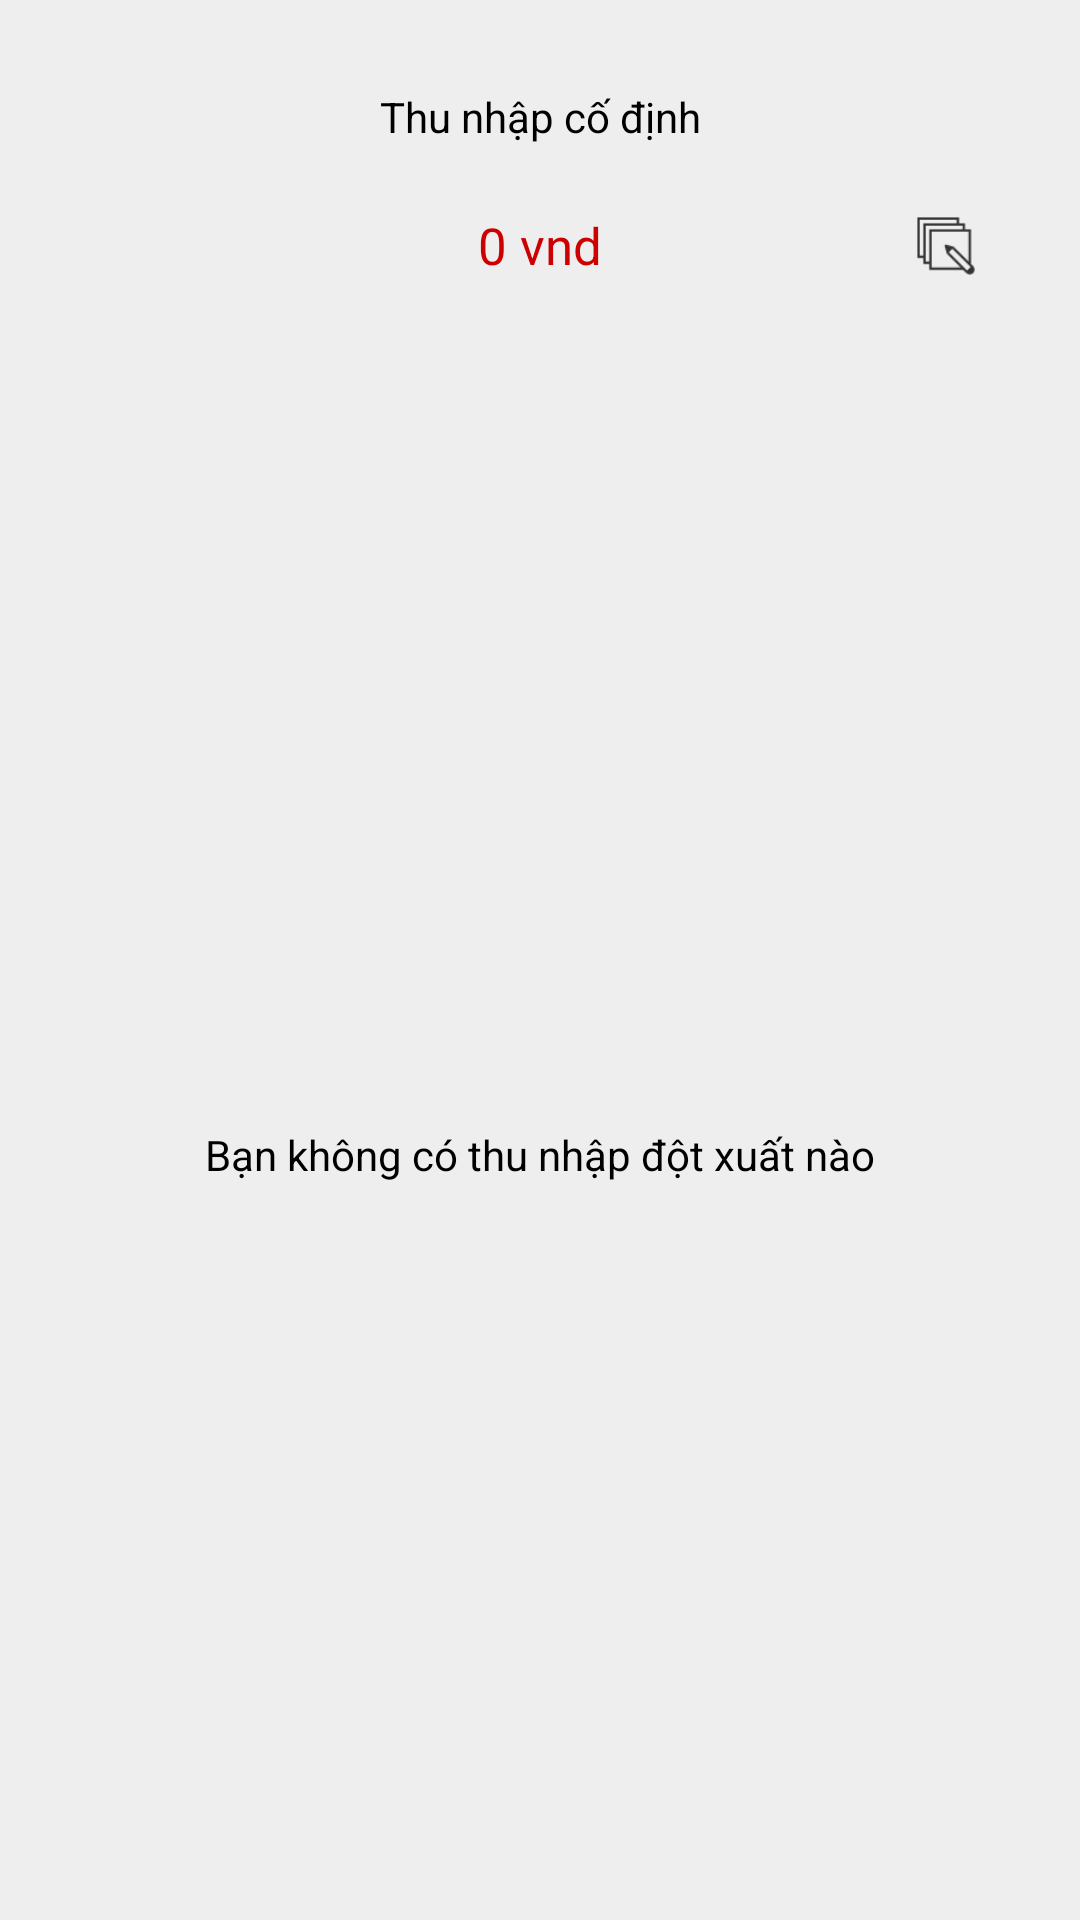

Named icons in this screenshot (1080×1920) and their centers, (x=x, y=y):
edit: (x=946, y=246)
